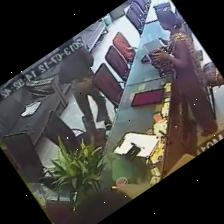person: (153, 8, 217, 136), (59, 47, 111, 130)
